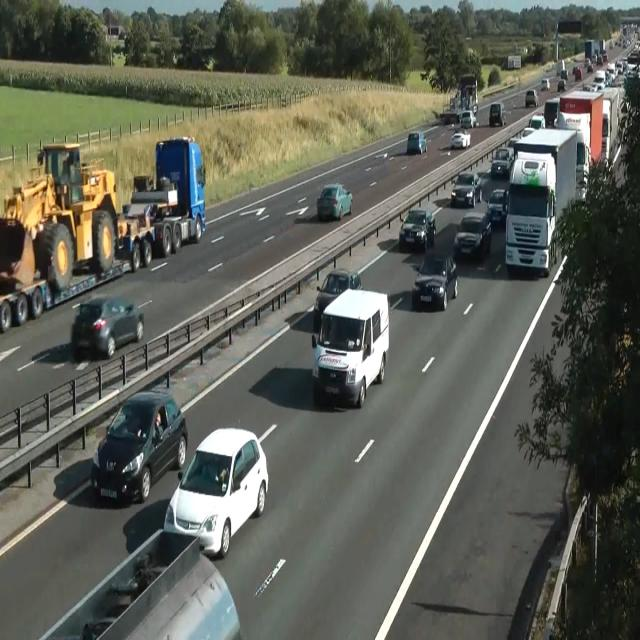bus: (40, 528, 242, 639), (163, 426, 269, 559), (70, 294, 144, 360), (312, 268, 362, 330), (398, 207, 436, 252), (316, 182, 352, 220), (486, 188, 508, 224), (491, 147, 514, 177), (508, 126, 534, 147), (407, 132, 427, 154), (489, 102, 507, 126), (450, 130, 470, 148), (459, 109, 475, 128), (525, 89, 539, 107), (529, 114, 545, 129), (519, 127, 535, 139), (572, 65, 582, 80), (540, 77, 550, 91), (558, 78, 566, 92), (560, 69, 568, 79)
car: (1, 136, 121, 292), (122, 134, 205, 256)
jeep: (90, 388, 188, 504), (311, 287, 389, 408), (412, 249, 458, 310), (454, 210, 492, 258), (450, 170, 482, 207)
minibus: (0, 134, 206, 332), (504, 126, 580, 276), (544, 86, 620, 186), (450, 73, 478, 115), (584, 38, 608, 64), (501, 54, 521, 70)
